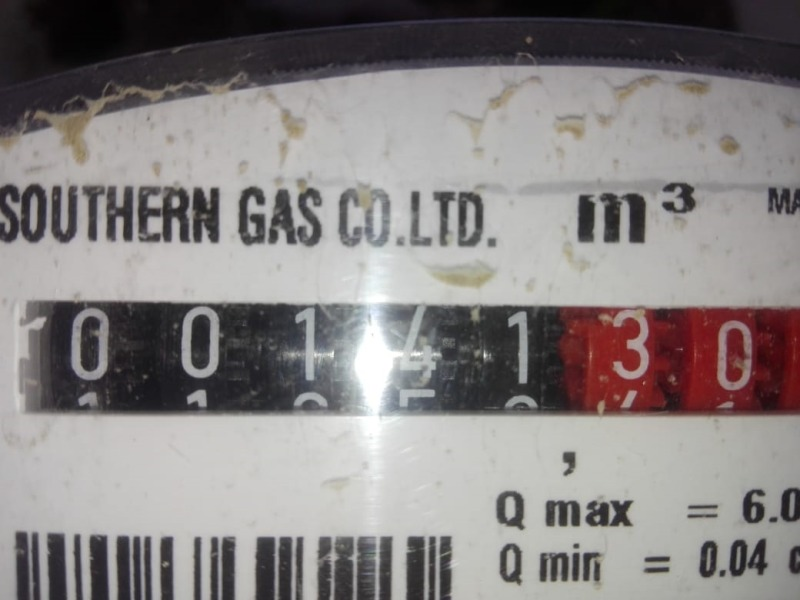ssgc: (27, 292, 793, 423)
